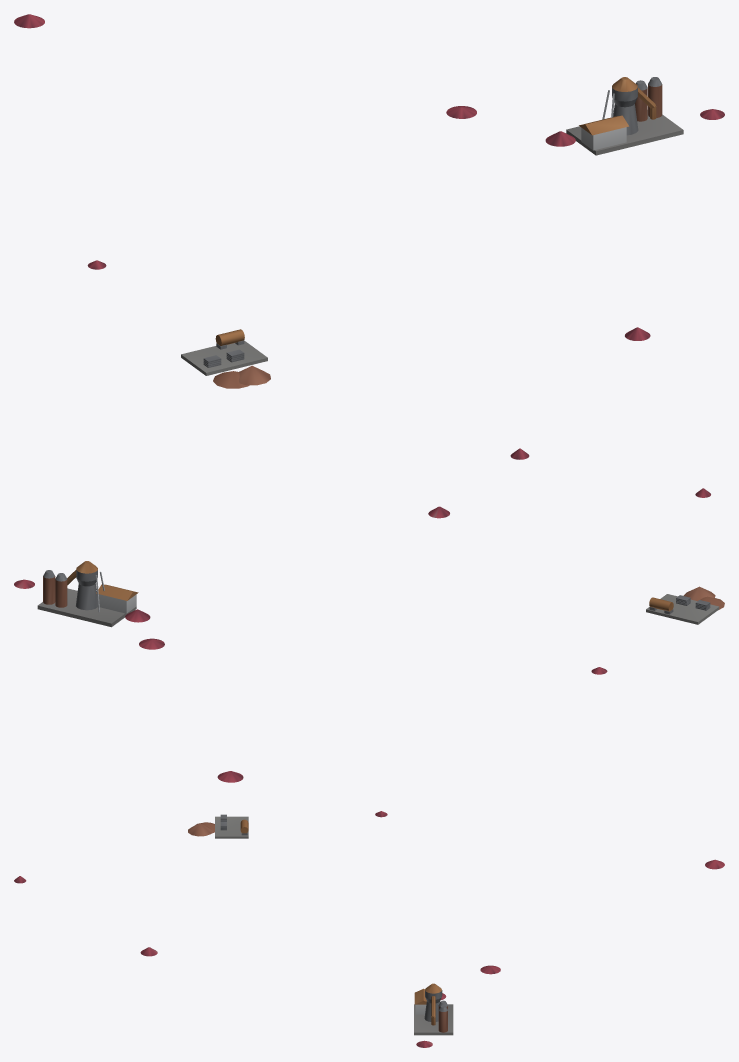
File: Theme_P1.fbx
3 views of the same model, one above another, from view 1: azimuth 30°, elevation 25°; view 2: azimuth 150°, elevation 25°; view 3: azimuth 270°, elevation 25° (orthographic). The views are drawn at different scales.
Parts seen in each view (by area): view 1: Theme.BlastFurnace, Theme.IngotYard, Theme.SlagBank; view 2: Theme.BlastFurnace, Theme.IngotYard; view 3: Theme.BlastFurnace, Theme.IngotYard.
Boxes of the visible parts, x1,y1,x2,y2 form: Theme.BlastFurnace: (566,77,683,155); Theme.IngotYard: (181,329,267,375); Theme.SlagBank: (213,365,270,388); Theme.BlastFurnace: (37,561,138,627); Theme.IngotYard: (646,594,719,624); Theme.BlastFurnace: (414,983,453,1035); Theme.IngotYard: (215,814,248,838).
Bounding box in the file's own units: 26208 × 2110 × 36115.
